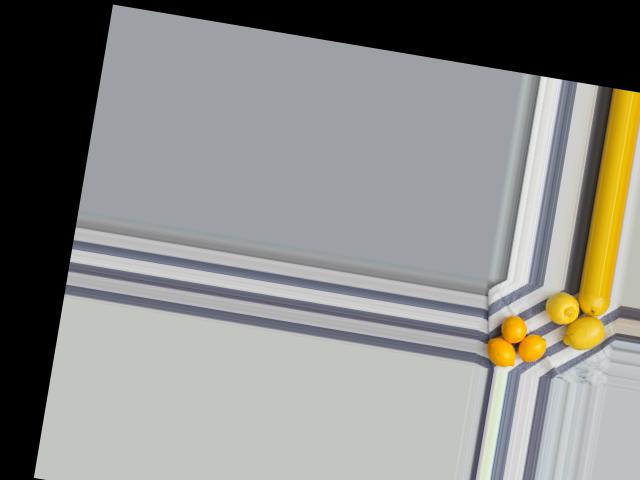lemon: (575, 291, 614, 321)
